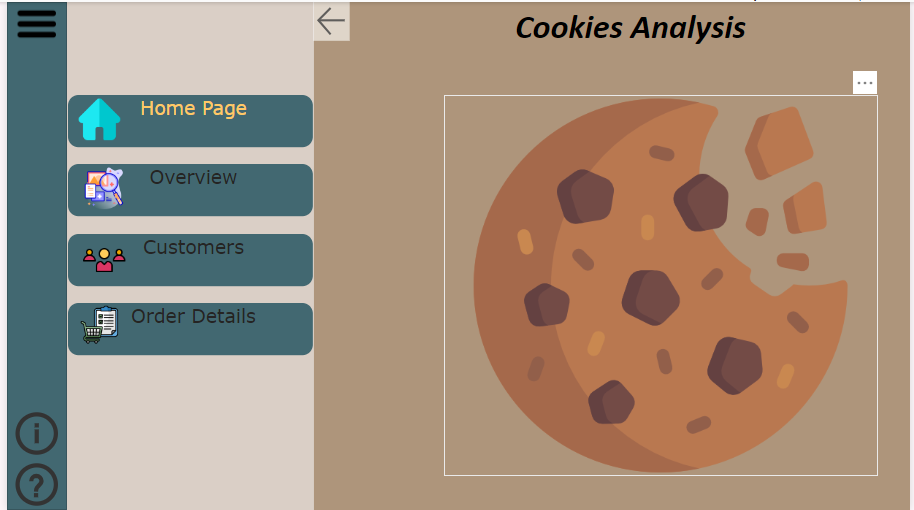

The dashboard page shown, as its layout file describes it:
{"tool":"powerbi","page":{"name":"Home Page","canvas":[1280,720],"ordinal":0},"visuals":[{"type":"textbox","box":[680,0,406.7,78.3],"z":1000},{"type":"image","box":[619.2,132.5,614.9,540],"z":2000},{"type":"group","id":"g1","title":"Menu Object","box":[85,0,401.1,720],"z":9250},{"type":"actionButton","title":"Close button","box":[433.7,0,52.4,55.3],"z":14000,"group":"g1"},{"type":"shape","title":"Flyout Shape","box":[85,0,350.1,720],"z":14140,"group":"g1"},{"type":"actionButton","title":"    Order Details","box":[87,426.6,346.6,73.7],"z":14281,"group":"g3"},{"type":"actionButton","title":"Customers","box":[87,328.8,346.6,73.7],"z":14562,"group":"g3"},{"type":"actionButton","title":"Overview","box":[87,229.6,346.6,73.7],"z":15125,"group":"g3"},{"type":"shape","box":[0,0,85,720],"z":15625,"group":"g2"},{"type":"actionButton","title":"Q/A","box":[0,647.7,85,72.3],"z":16125,"group":"g2"},{"type":"actionButton","title":"Home Page","box":[87,131.8,346.6,73.7],"z":16250,"group":"g3"},{"type":"actionButton","title":"Information","box":[0,575.4,85,72.3],"z":16250,"group":"g2"},{"type":"image","box":[87,423.8,88.4,66.6],"z":16281,"group":"g3"},{"type":"image","box":[88.4,328.8,99.6,73.7],"z":16296,"group":"g3"},{"type":"image","box":[88.4,229.6,99.6,69.4],"z":16312,"group":"g3"},{"type":"image","box":[94,131.8,75.8,69.4],"z":16375,"group":"g3"},{"type":"actionButton","title":"Menu","box":[0,0,85,62.4],"z":16500,"group":"g2"},{"type":"group","id":"g2","title":"menu bar","box":[0,0,85,720],"z":16501},{"type":"group","id":"g3","title":"Home page","box":[87,131.8,346.6,368.5],"z":16502,"group":"g1"}]}

Visuals, with their boxes in screenshot pixels (x1, y1, x2, y2), scaled from the page's 1280x720 canvas onto the 914x510 screenshot:
textbox: 486:0:776:55
image: 442:94:881:476
"Menu Object" group: 61:0:347:509
"Close button" actionButton: 310:0:347:39
"Flyout Shape" shape: 61:0:311:509
"    Order Details" actionButton: 62:302:310:354
"Customers" actionButton: 62:233:310:285
"Overview" actionButton: 62:163:310:215
shape: 0:0:61:509
"Q/A" actionButton: 0:459:61:509
"Home Page" actionButton: 62:93:310:146
"Information" actionButton: 0:408:61:459
image: 62:300:125:347
image: 63:233:134:285
image: 63:163:134:212
image: 67:93:121:143
"Menu" actionButton: 0:0:61:44
"menu bar" group: 0:0:61:509
"Home page" group: 62:93:310:354
